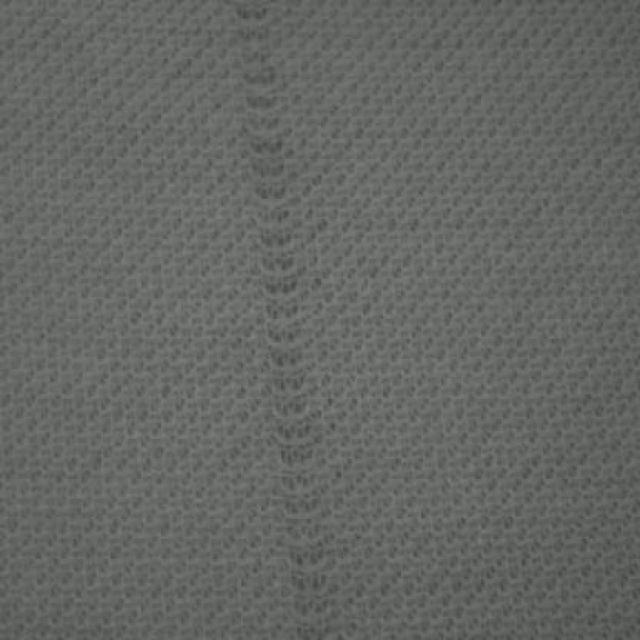Line: (230, 0, 330, 639)
